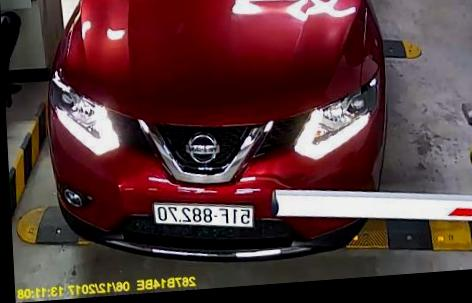License_Plate: (147, 195, 256, 231)
